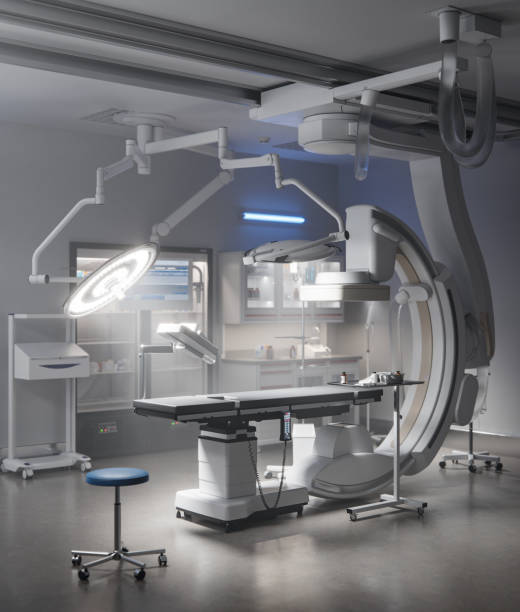cabinet: (72, 240, 208, 448), (215, 250, 347, 328)
chair: (69, 466, 168, 581), (447, 365, 505, 473)
operating_bed: (133, 374, 406, 527)
surgical_light: (61, 245, 160, 320), (239, 241, 339, 267), (168, 326, 220, 367), (299, 281, 392, 303)
utility_cart: (3, 313, 93, 481), (337, 377, 433, 518)
